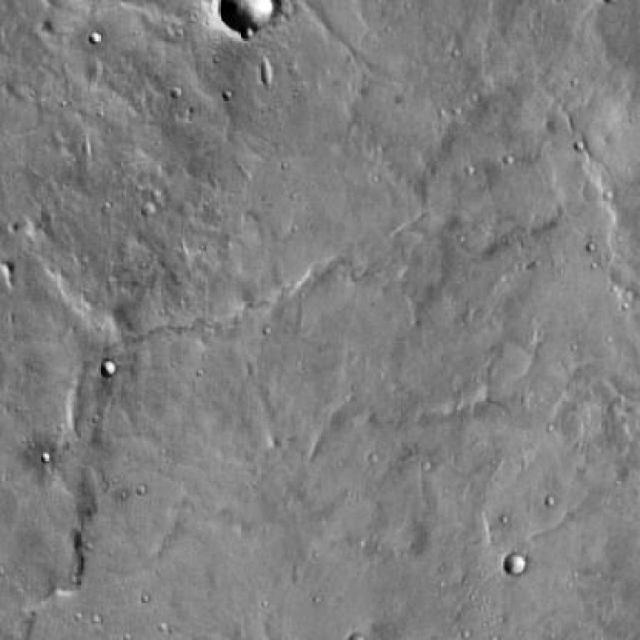crater: (219, 0, 278, 37), (504, 555, 525, 576), (98, 360, 115, 378)
